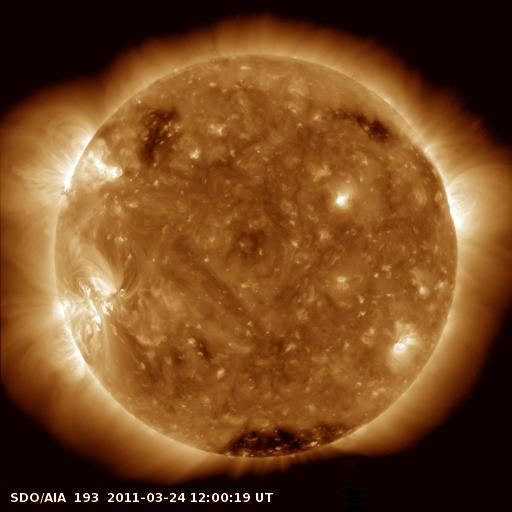coronal_hole: (211, 413, 351, 461), (133, 100, 183, 169), (343, 104, 399, 146)
